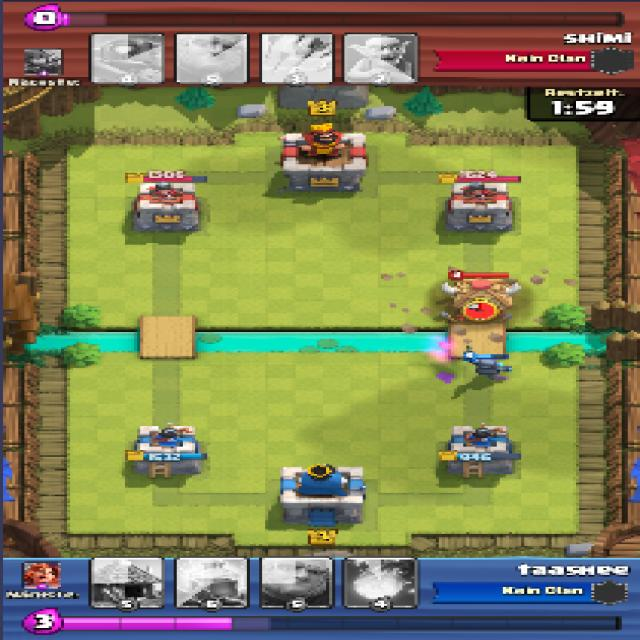Enemy-GoblinHut: (438, 278, 520, 322)
Player-MiniPEKKA: (464, 345, 514, 377)
